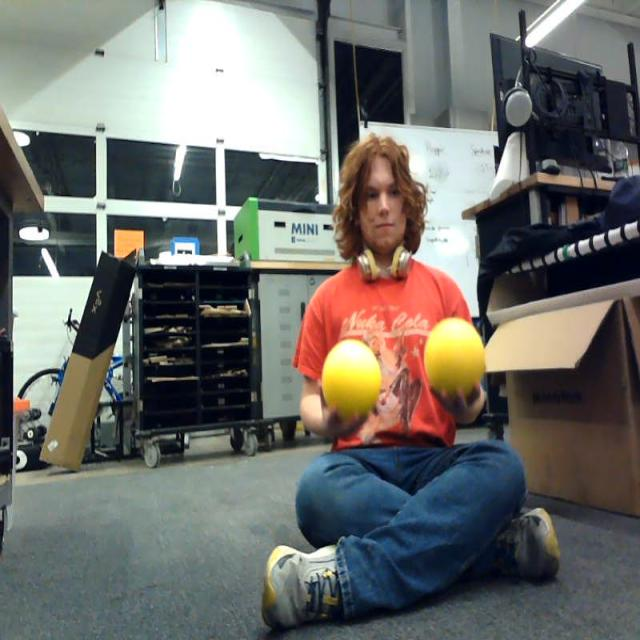Fuel: (424, 318, 486, 400), (323, 339, 382, 422)
